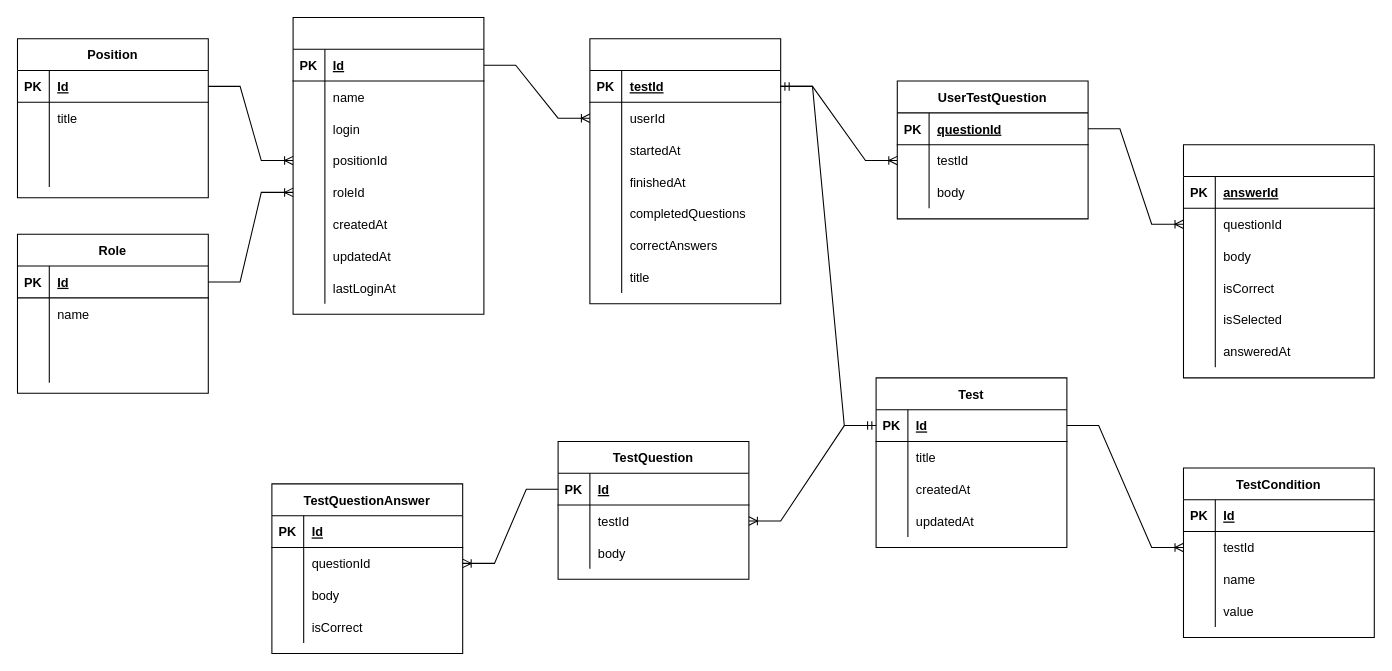
Image size: 1392x671. Some labels were removed from this diagram. Each missing label, with the box of its shape:
User: (292, 16, 484, 314)
UserTest: (589, 38, 781, 304)
UserTestQuestionAnswer: (1182, 144, 1374, 378)
